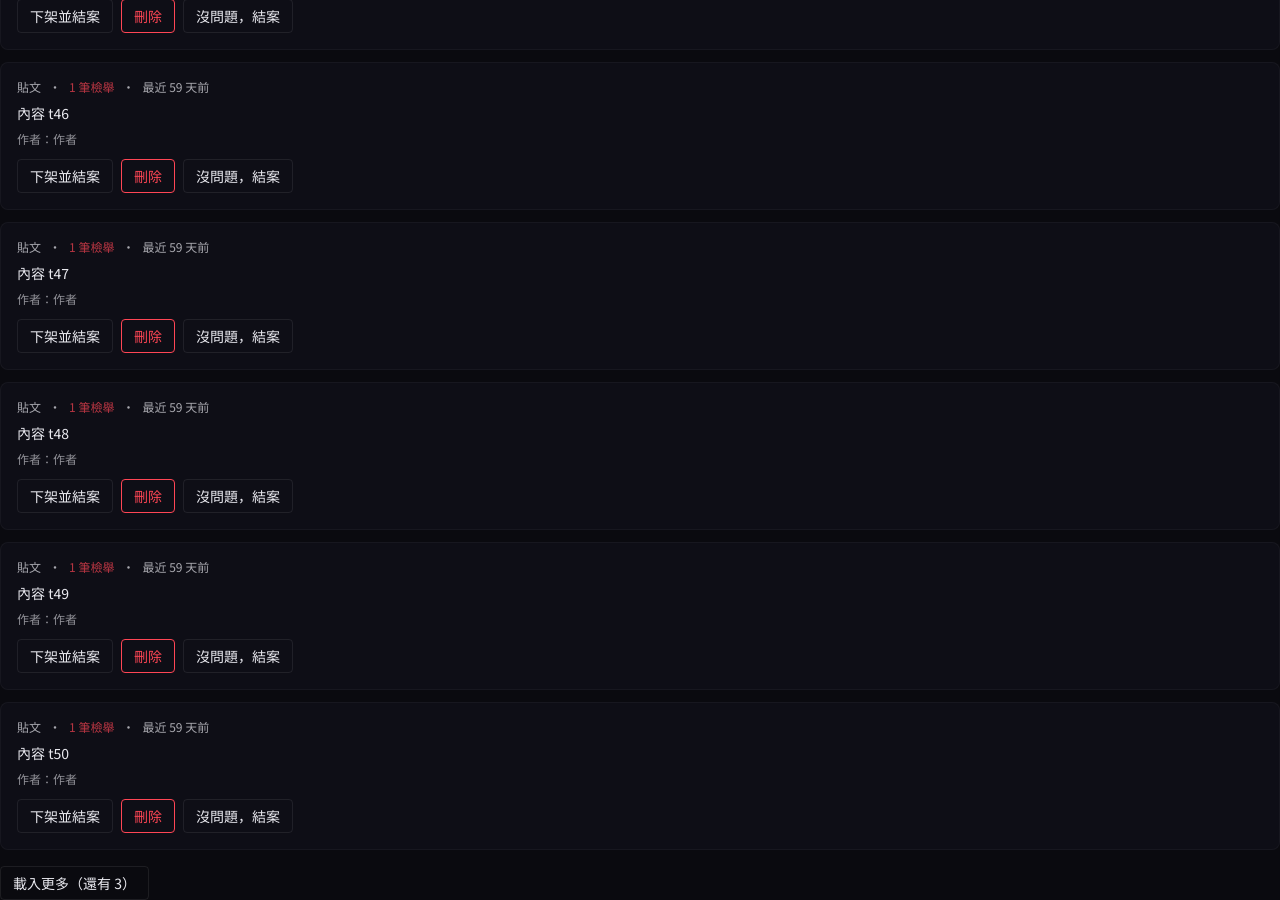
Scenario: ReportsTab paging › continues after the last row on screen with the first page's snapshot
(page scrolled)
What coordinates should you click on to do the following:
click the button "載入更多（還有 3）"
I would click on:
 (74, 883)
Its box is [0,866,149,899].
(page scrolled)
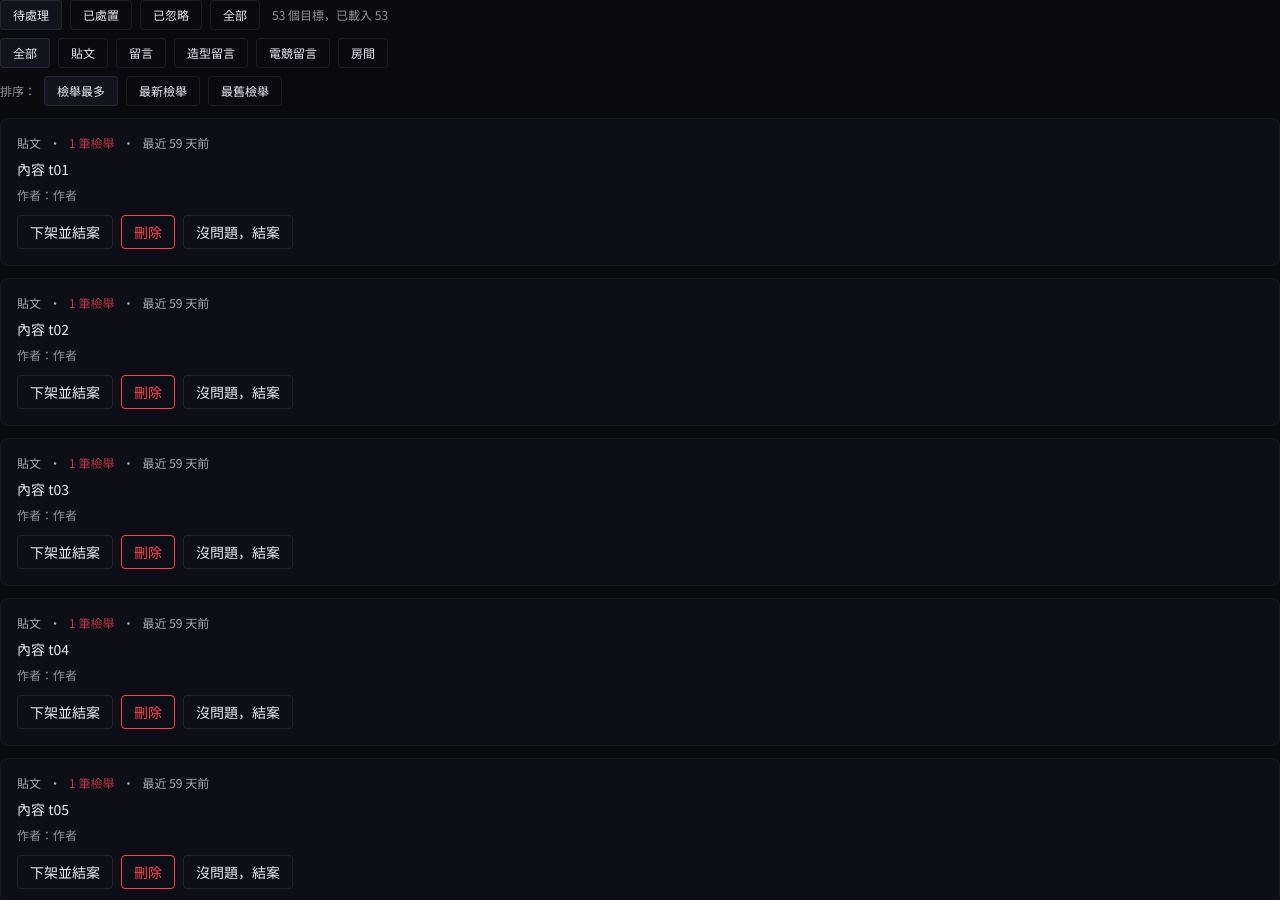
Expected: the text "53 個目標，已載入 53" is shown, [272,7,388,23]
